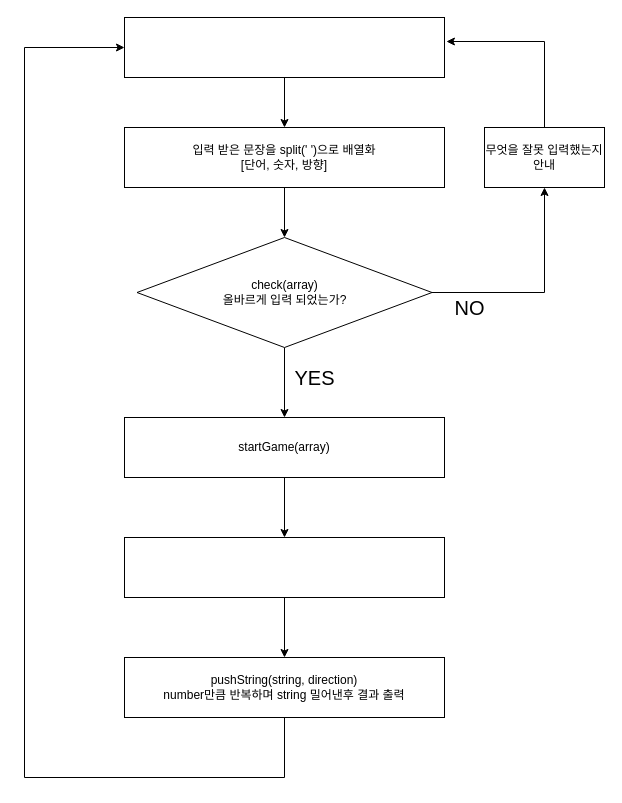
The diagram is 622 pixels wide and 803 high, and some of its shapes have lost their labels. The shapes that lost their labels are listed below. From the top down, each one's centre as x and y in pixels, then its label:
(284,47): inputText(string, number, boolean) 단어, 숫자, 방향을 입력 받는다
(284,567): L, R에 따라 direction 변수에 +1, -1 부여
